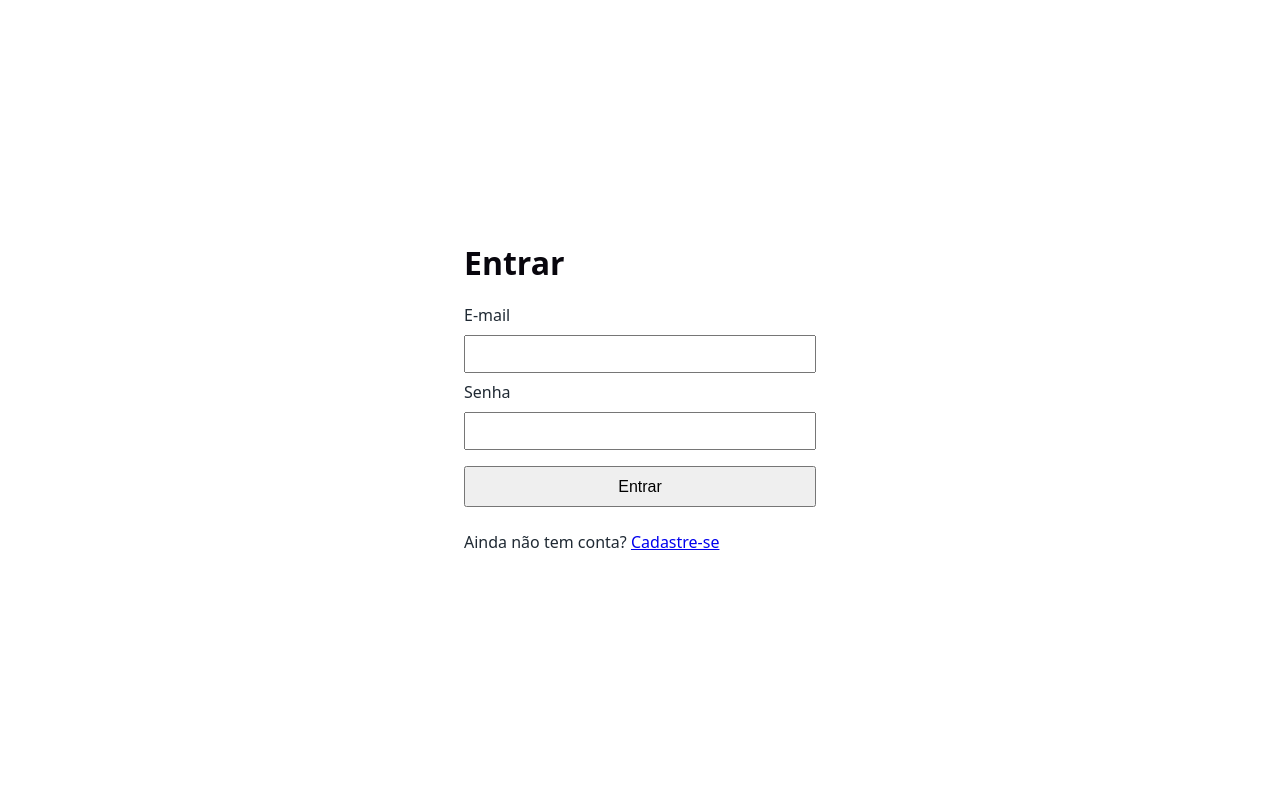
LoginPage (fluxo completo via App real) › logs the user in and redirects to the authenticated home
Type "user@example.com" into the field labelled "E-mail" at (640, 354), box [464,335,816,373]
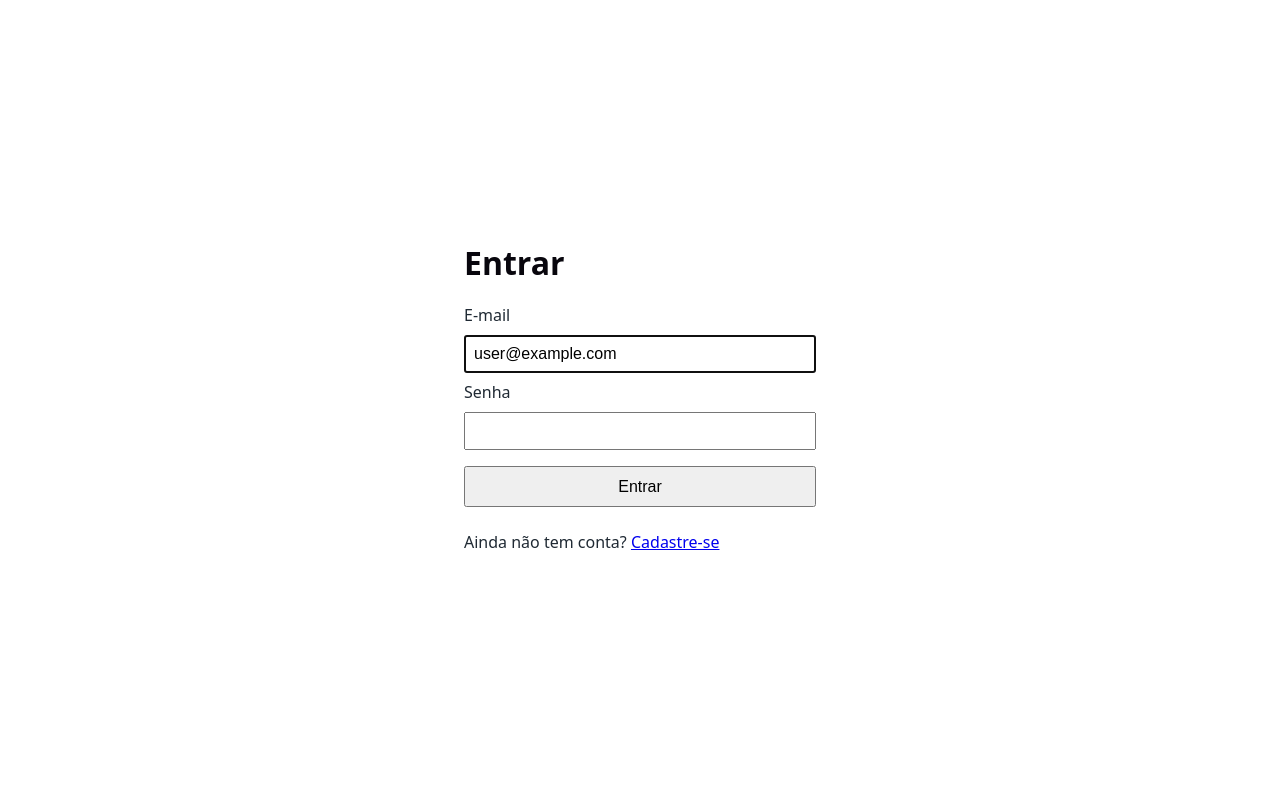
Type "StrongPass1" into the password field labelled "Senha" at (640, 431), box [464,412,816,450]
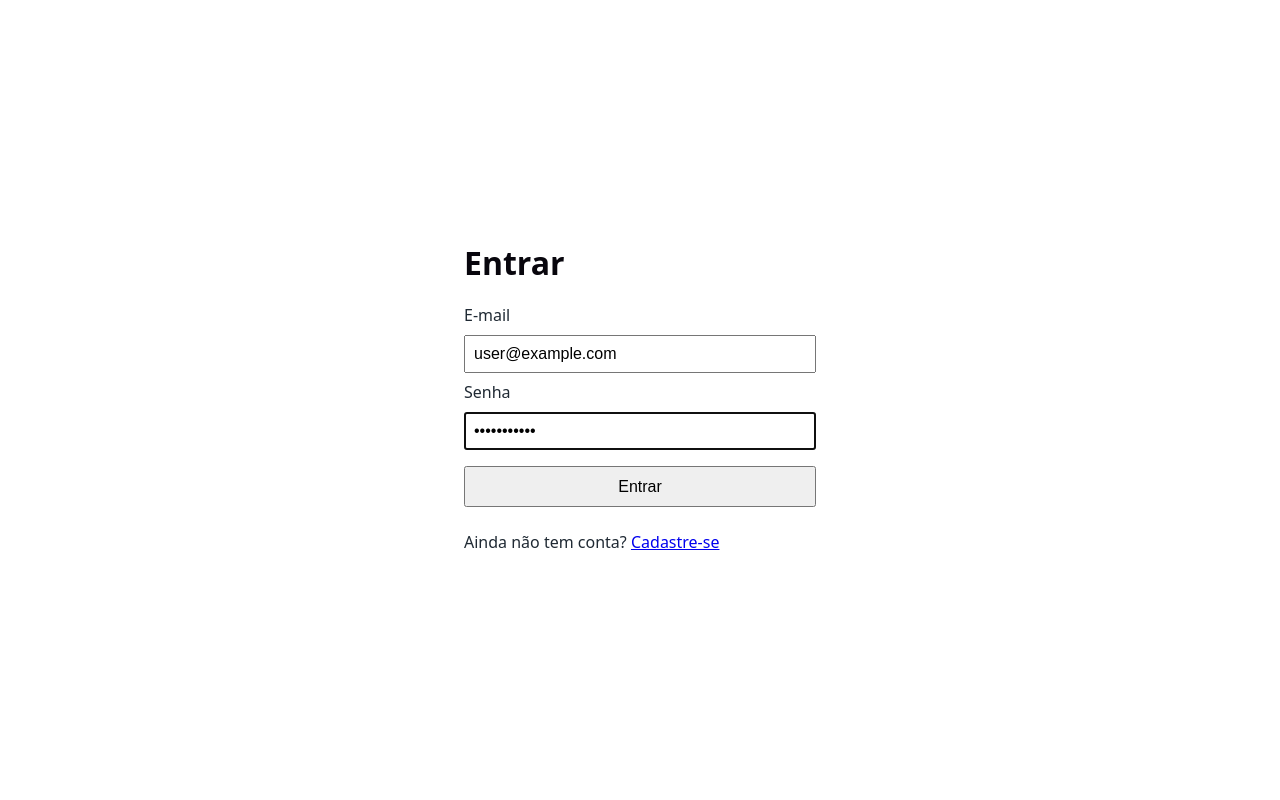
Click the button "Entrar" at (640, 487), box [464,466,816,507]
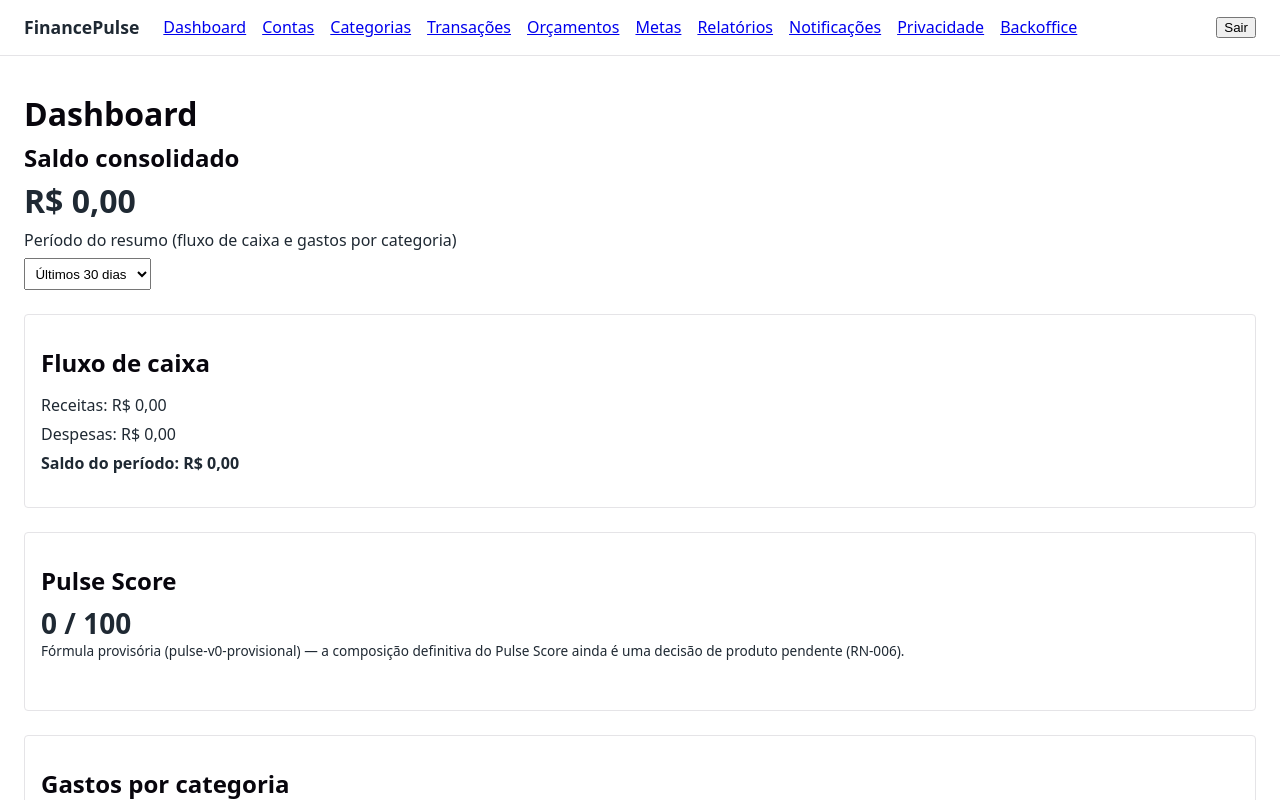
Now the heading "Dashboard" is shown, box [24,92,198,135]
